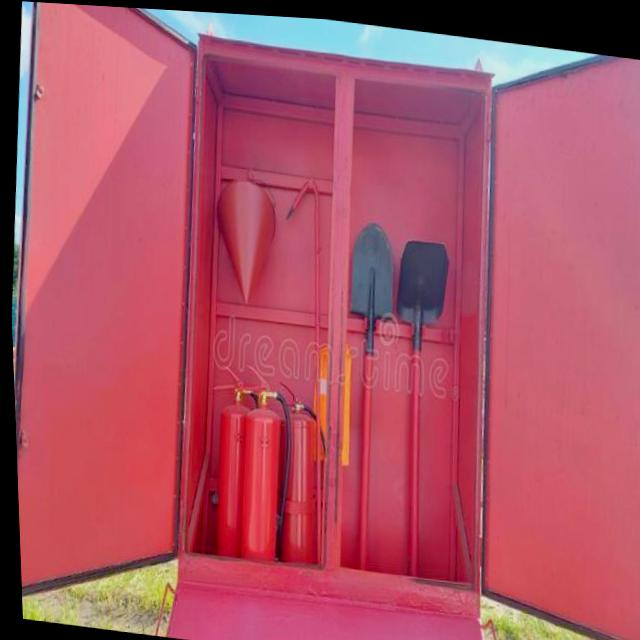FireExtinguisher: (222, 352, 297, 567), (257, 366, 334, 574), (195, 359, 263, 560)
